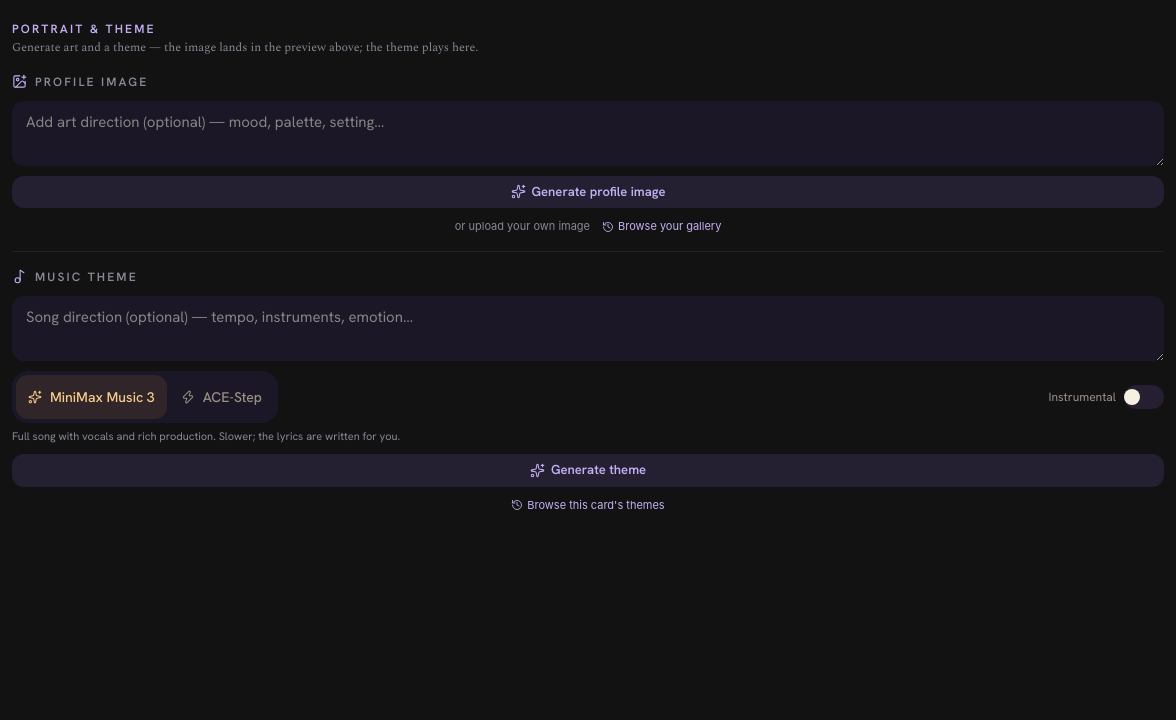
it: MediaStudioSection image generation › shows still-running copy (not a failure) when the wait deadline passes
The width and height of the screenshot is (1176, 720).
Click the button "Generate profile image" at coordinates (588, 192), box [12, 176, 1164, 208]
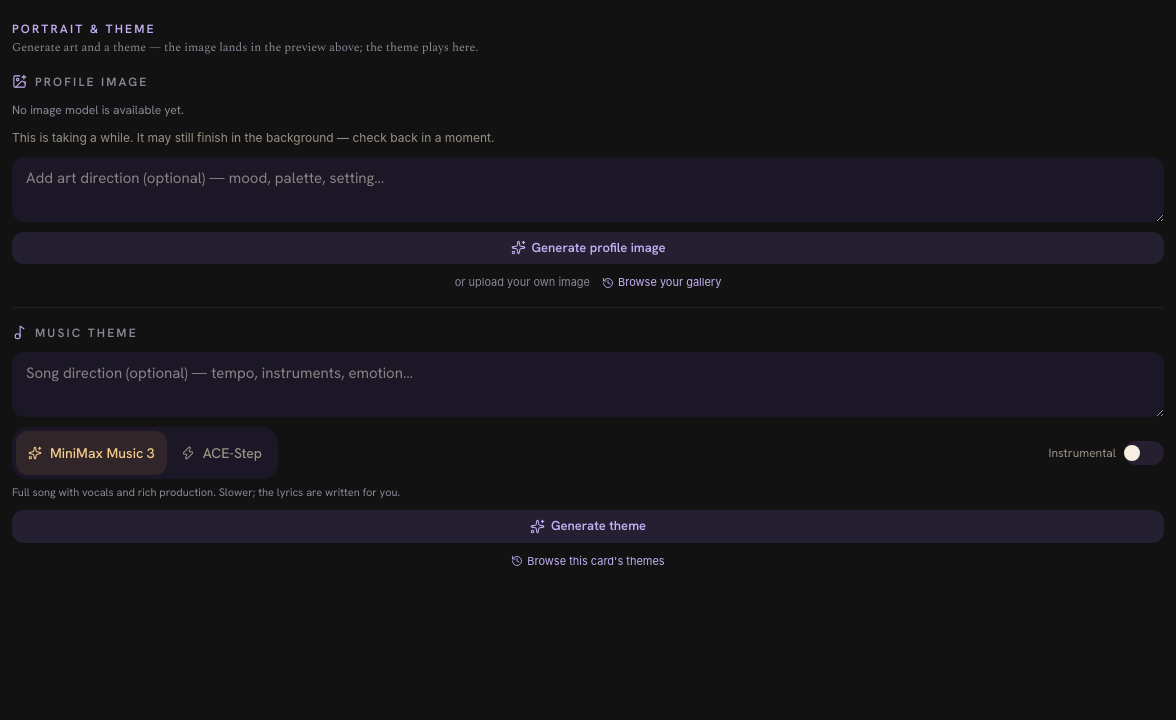
Result: the message shows "taking a while" at [12, 130, 494, 144]
